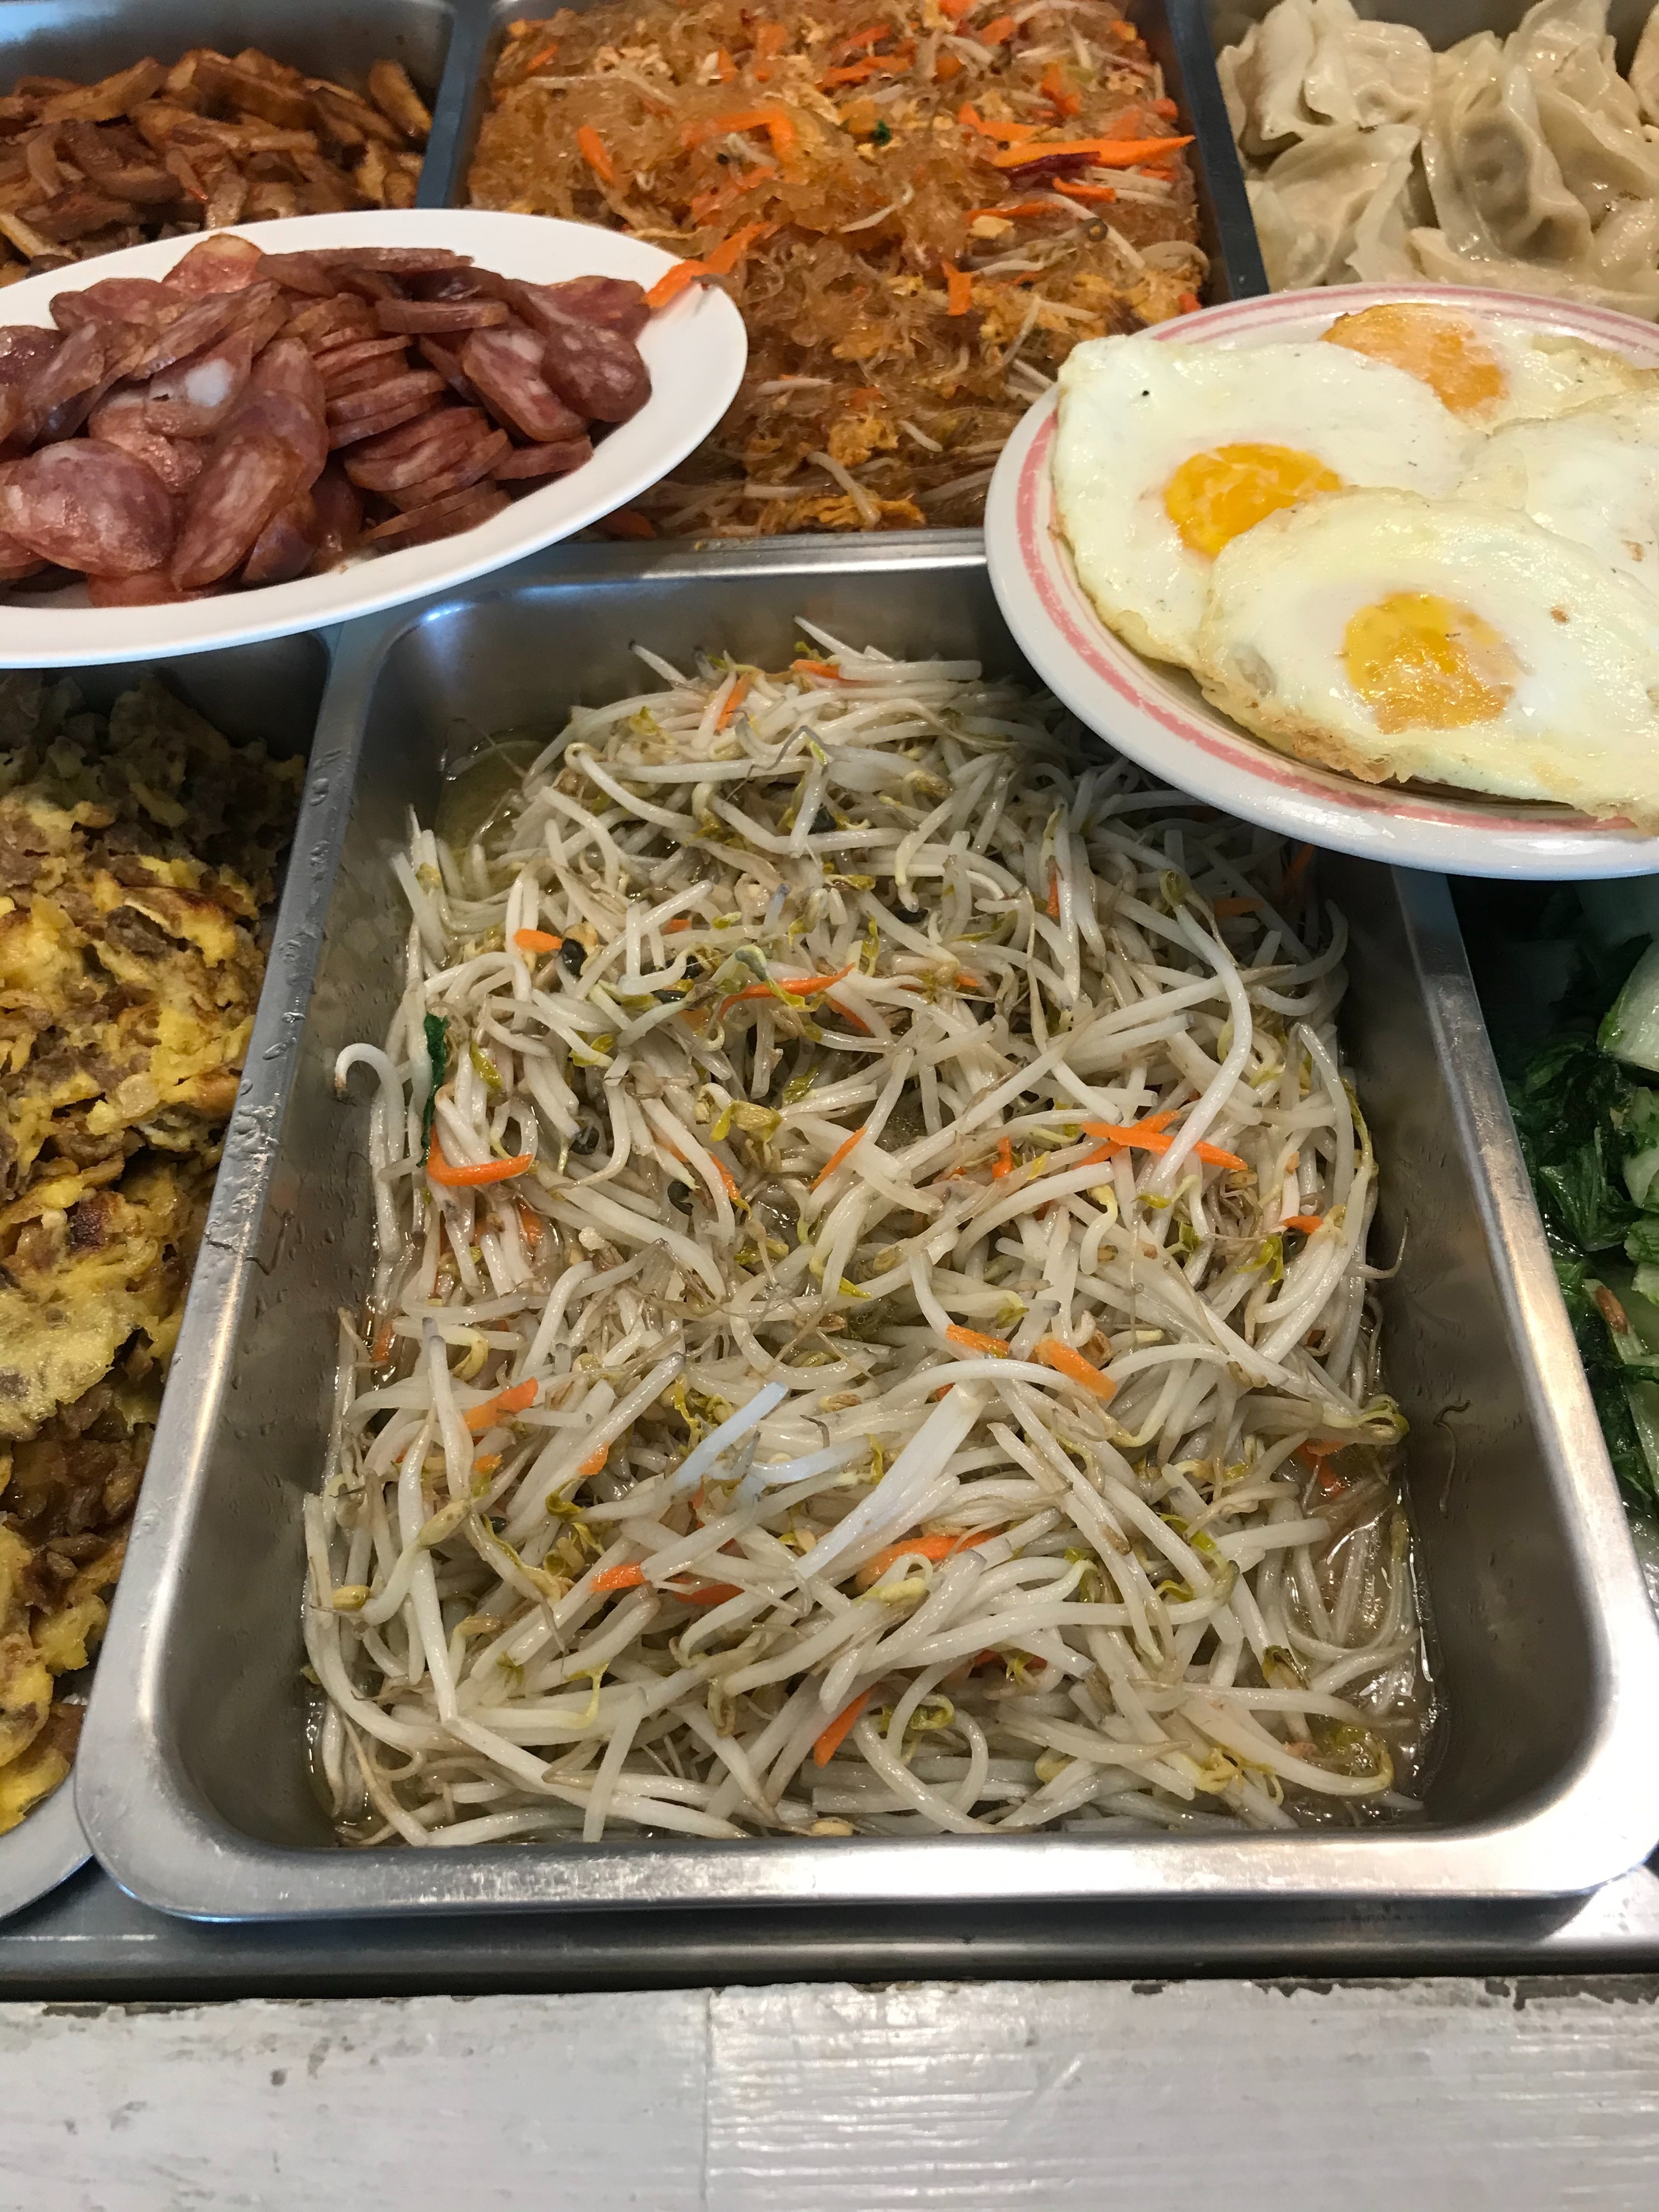chinese_sausage: (0, 265, 647, 543)
fried_dumplings: (1253, 2, 1659, 287)
fried_eggs: (1072, 294, 1659, 827)
mung_bean_sprouts: (368, 840, 1349, 1824)
